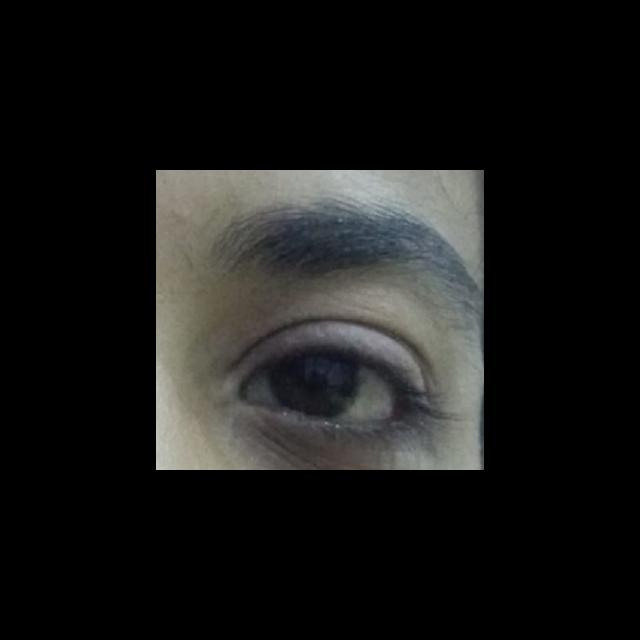eye: (240, 349, 398, 426)
iris: (269, 353, 361, 419)
